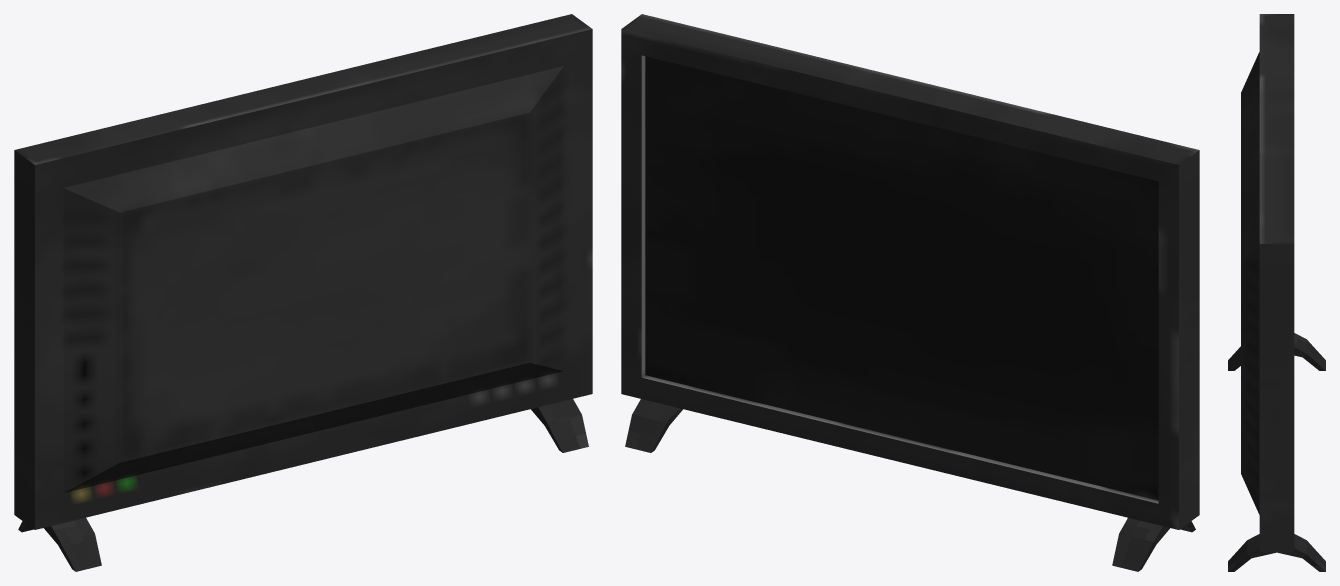
The model's file is Television.obj.
3 renders of one model, left to right at view 1: azimuth 30°, elevation 25°; view 2: azimuth 150°, elevation 25°; view 3: azimuth 270°, elevation 25°, orthographic. The views are drawn at different scales.
Visible parts, largest first — view 1: Television_TV, Television_Material.007; view 2: Television_TV, Television_Material.007; view 3: Television_TV, Television_Material.007.
Part boxes in pixels (left/top/right/bottom): Television_TV: left=14, top=14, right=592, bottom=529; Television_Material.007: left=18, top=399, right=588, bottom=571; Television_TV: left=621, top=14, right=1199, bottom=529; Television_Material.007: left=625, top=399, right=1195, bottom=571; Television_TV: left=1241, top=14, right=1294, bottom=552; Television_Material.007: left=1228, top=333, right=1325, bottom=571.
Bounding box in the file's own units: 16.16 × 11.04 × 2.9.
